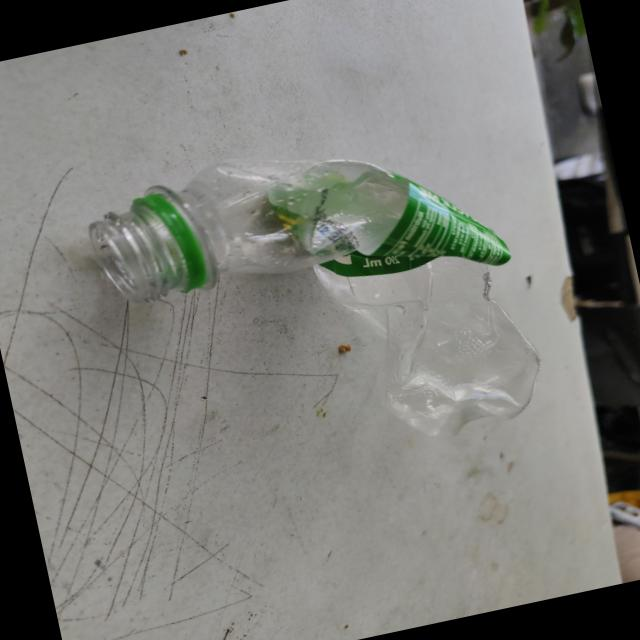Bottle: (88, 160, 538, 435)
